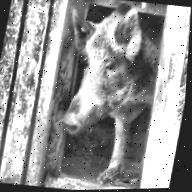boar: (39, 0, 171, 187)
